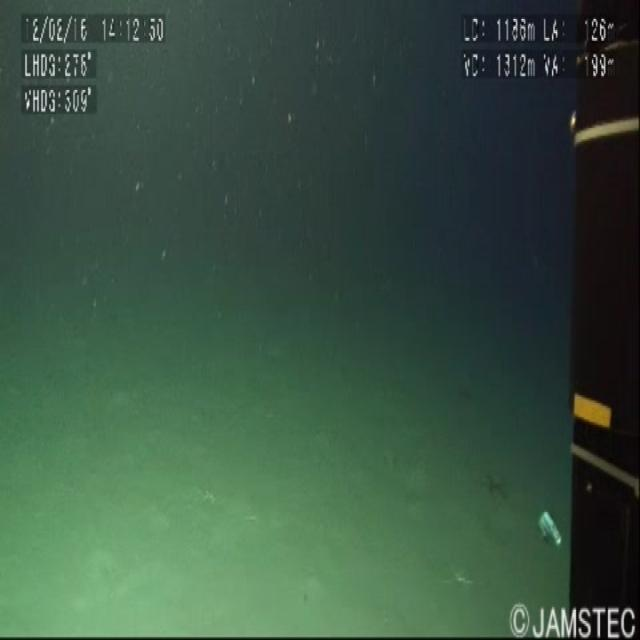Litter: (520, 502, 570, 606)
